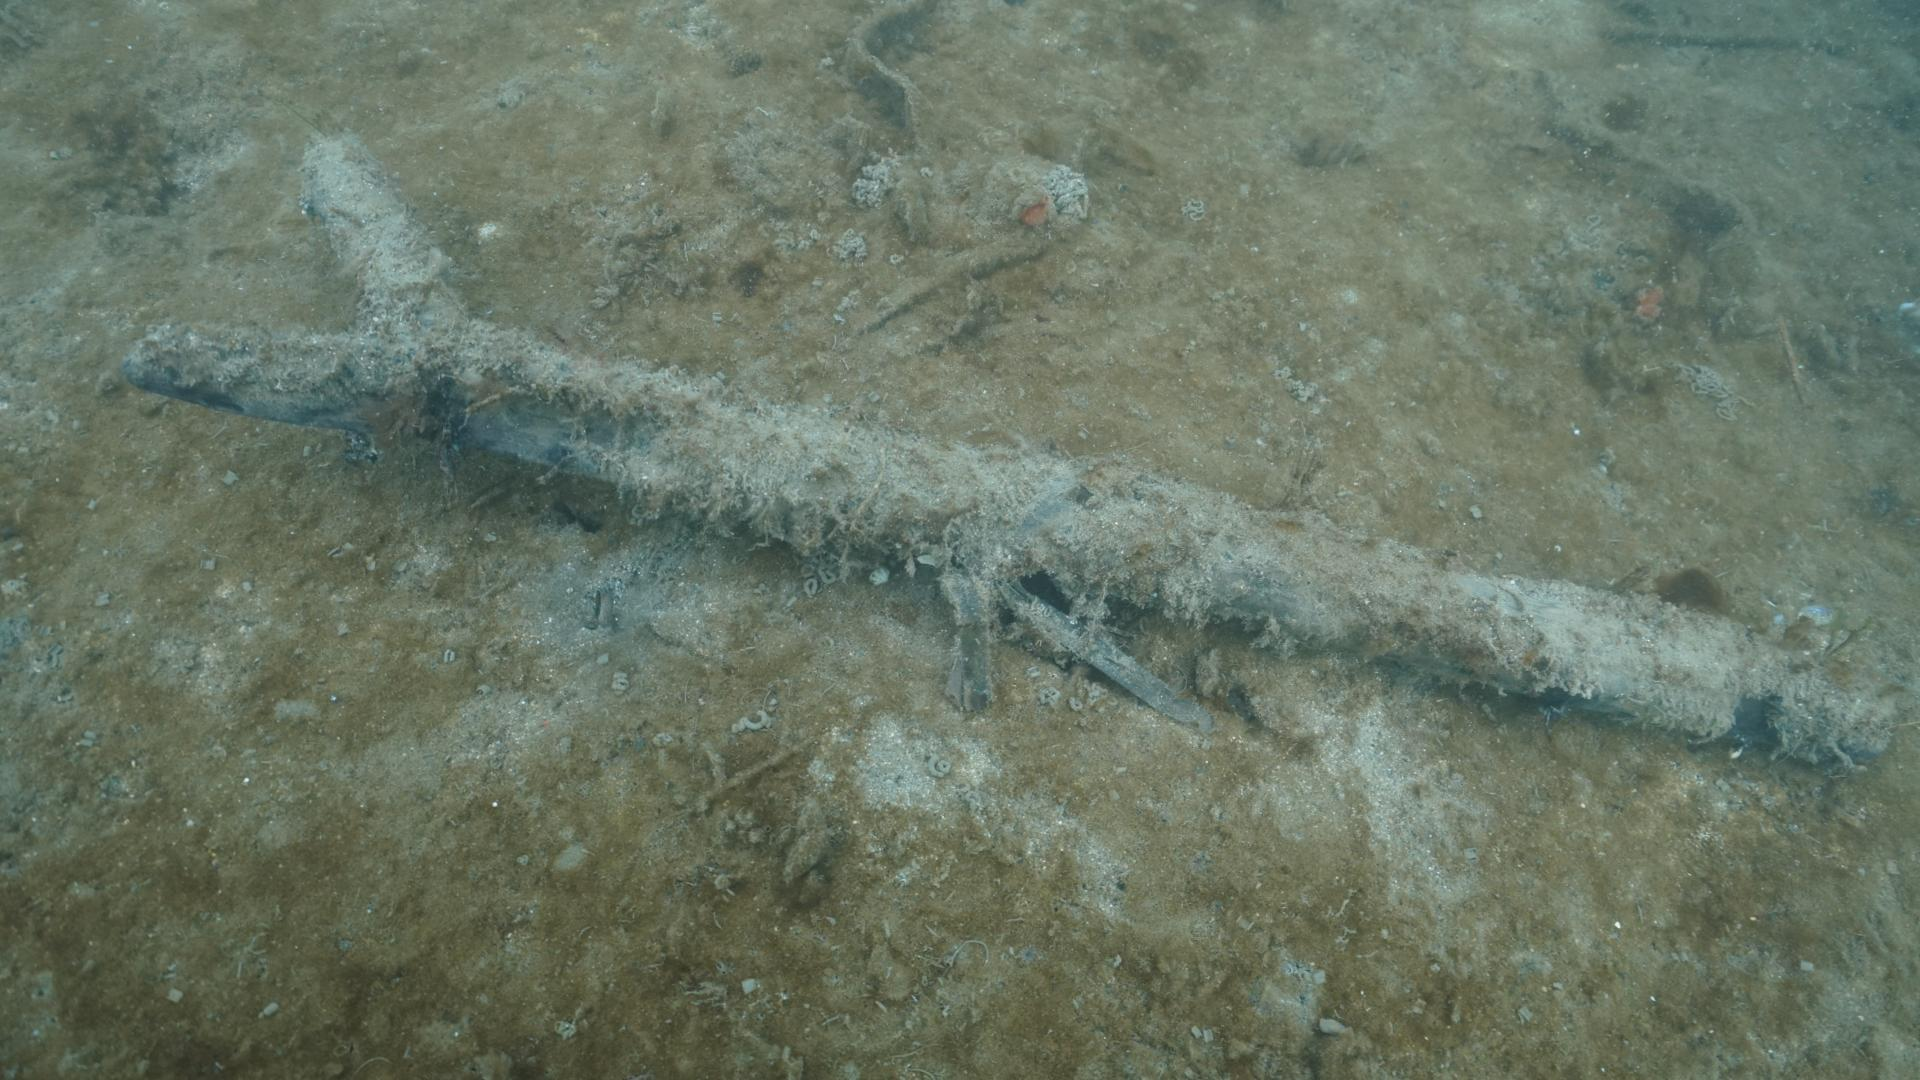wood: (121, 131, 1894, 769)
